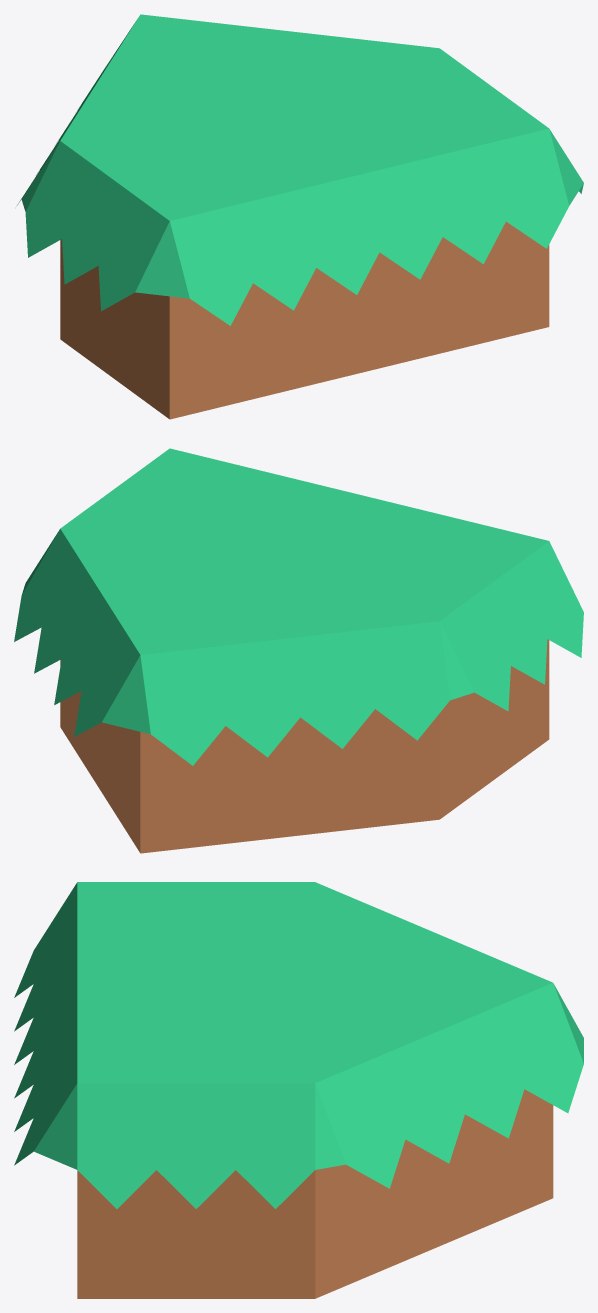
File: blockEnd.glb
3 views of the same model, one above another, from view 1: azimuth 30°, elevation 25°; view 2: azimuth 150°, elevation 25°; view 3: azimuth 270°, elevation 25° (orthographic). The views are drawn at different scales.
Parts seen in each view (by area): view 1: blockEnd; view 2: blockEnd; view 3: blockEnd.
Boxes of the visible parts, x1,y1,x2,y2 form: blockEnd: [17, 14, 583, 419]; blockEnd: [14, 448, 583, 853]; blockEnd: [14, 882, 583, 1298].
Size of the model in its own units: 1.27 by 0.5 by 1.2.
